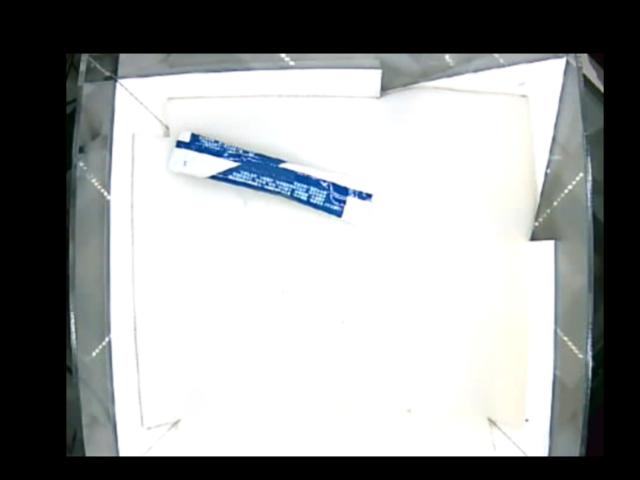Medicine: (166, 128, 375, 224)
